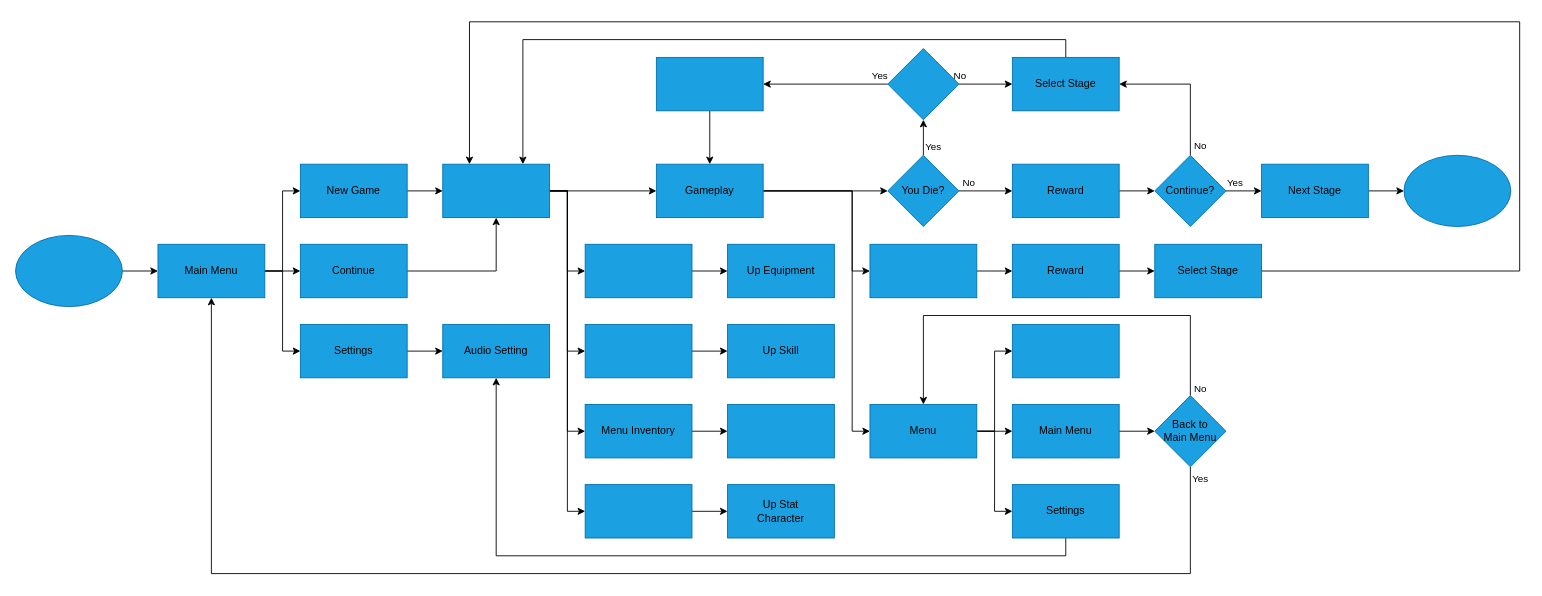
Some shapes in this 1542 by 596 pixel diagram are drawn without their labels. The centre of each missing label's shape, as x and y in pixels:
Dialogue: [923,270]
End: [1457,190]
Launch Game: [68,271]
Menu Equipment: [638,270]
Menu Profile: [638,511]
Menu Skill: [638,351]
Prepare Menu/ Select Stage: [496,190]
Resume: [1065,351]
Retry: [709,84]
Try Again?: [923,84]
Up Keris: [780,431]
